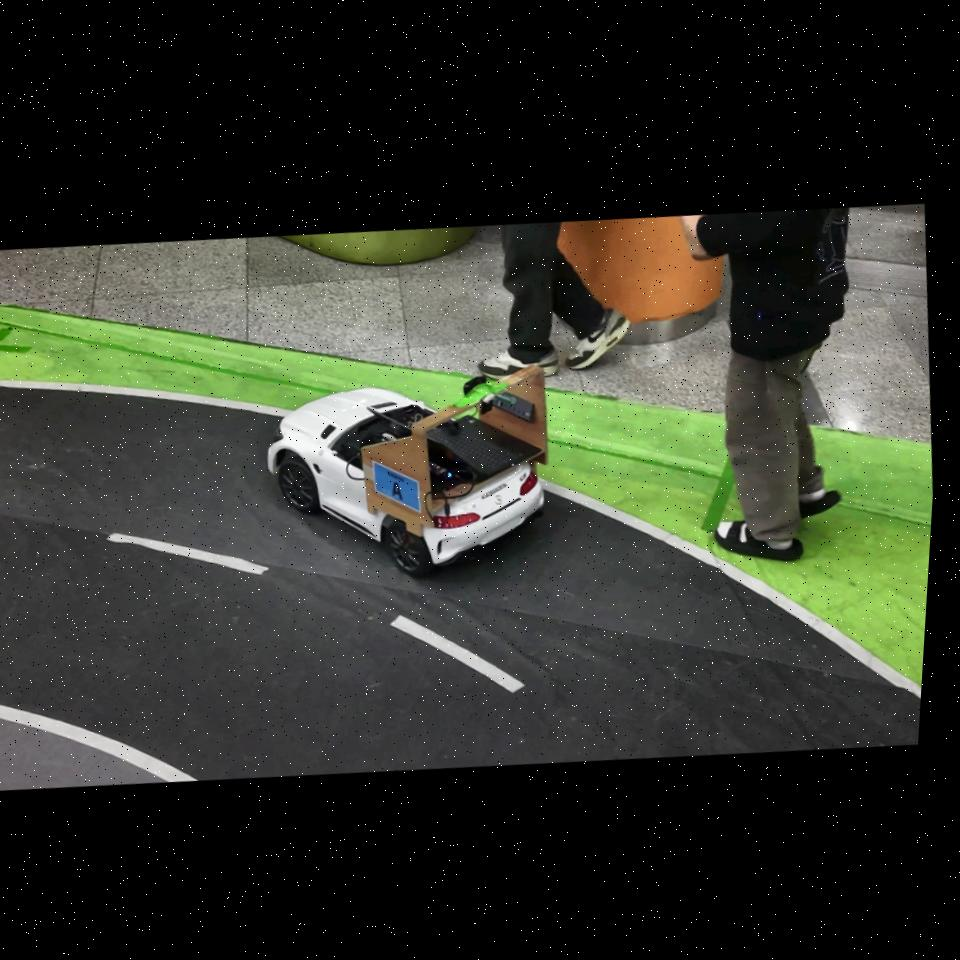broken_line: (390, 614, 525, 693), (106, 533, 269, 575)
